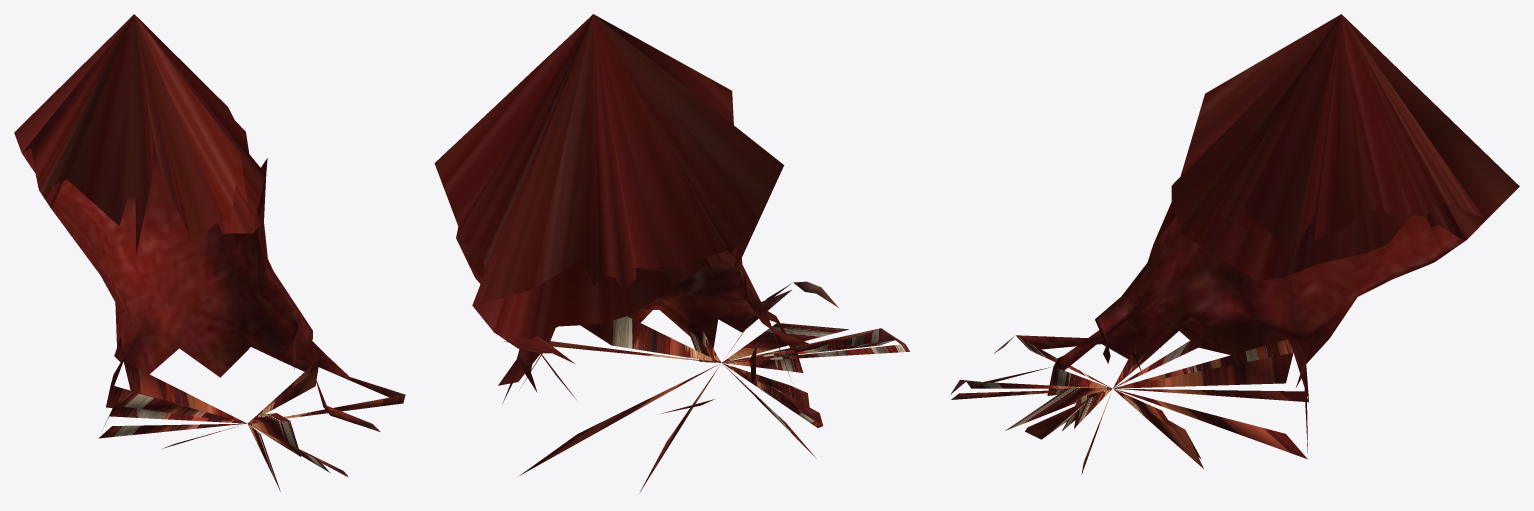
The model's file is dragon_leg_fposx.glb.
The picture shows the model from 3 angles, left to right: view 1: azimuth 30°, elevation 25°; view 2: azimuth 150°, elevation 25°; view 3: azimuth 270°, elevation 25°; orthographic projection. The views are drawn at different scales.
Bounding box in the file's own units: 2.74 × 3.54 × 4.49.
1 material, 1 textured.
